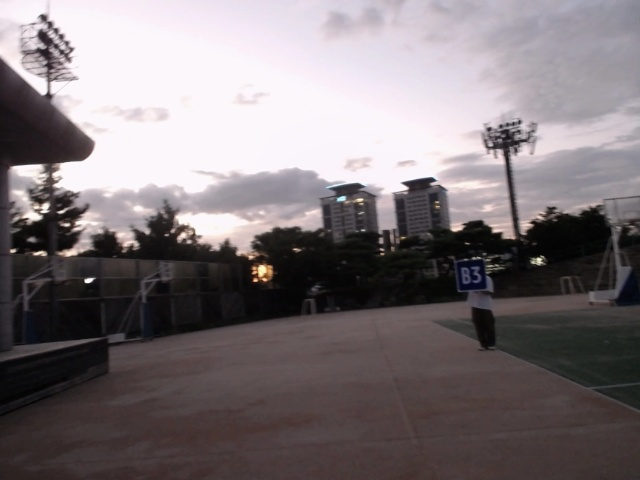delivery_b3: (453, 259, 488, 293)
